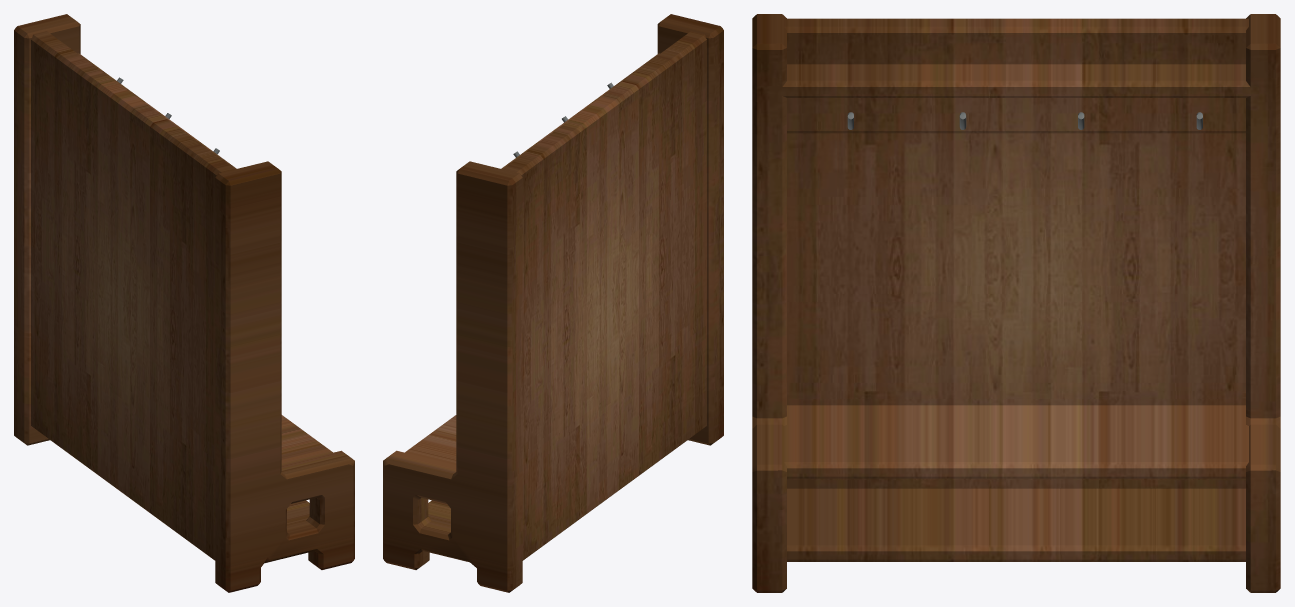
The model's file is mueble.obj.
3 renders of one model, left to right at view 1: azimuth 30°, elevation 25°; view 2: azimuth 150°, elevation 25°; view 3: azimuth 270°, elevation 25°, orthographic. The views are drawn at different scales.
Parts seen in each view (by area): view 1: pCube3; view 2: pCube3; view 3: pCube3.
Part boxes in pixels (x1,y1,x2,y2): pCube3: [14, 14, 354, 592]; pCube3: [383, 14, 723, 592]; pCube3: [752, 14, 1280, 592].
Size of the model in its own units: 0.3624 by 1.1 by 1.04.
2 materials, 2 textured.
